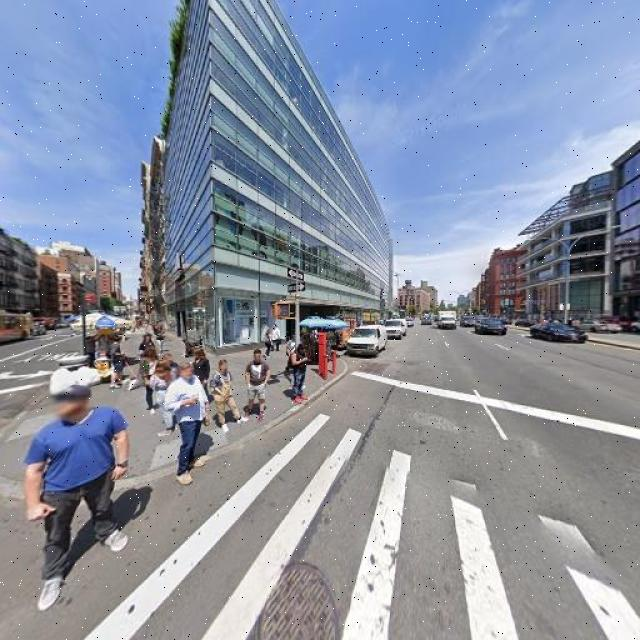Building: (177, 1, 389, 348), (615, 155, 640, 333)
